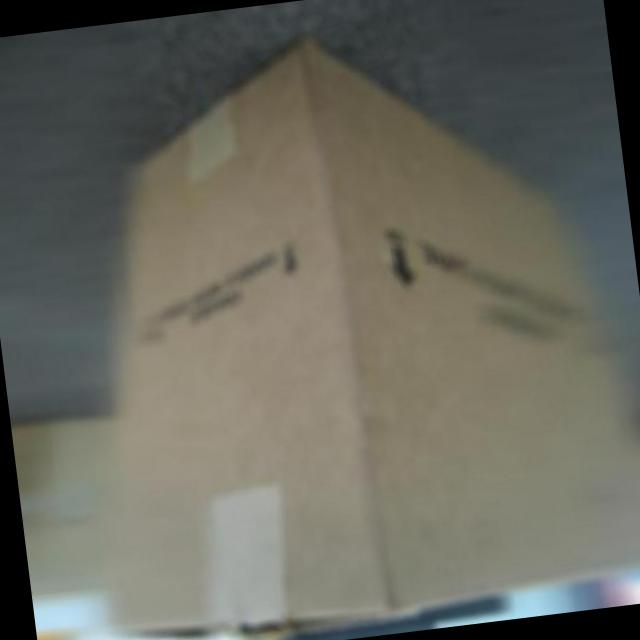box: (85, 9, 640, 640)
